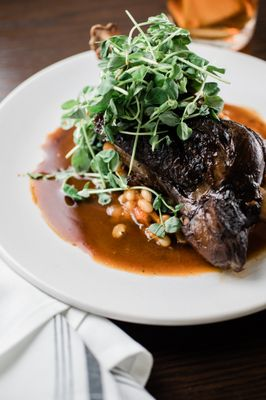pizza: (163, 0, 260, 51)
soup: (24, 15, 265, 278)
